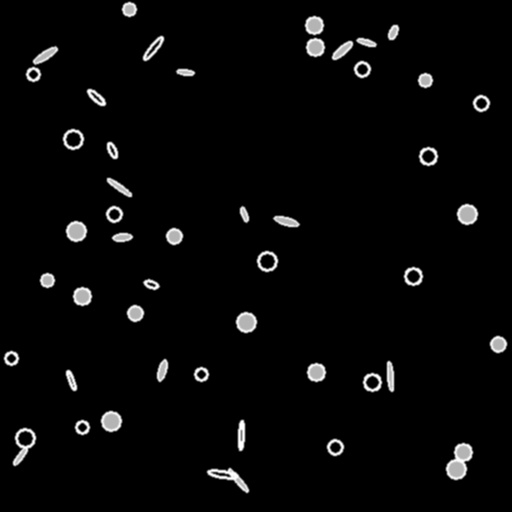pseudomonas: (141, 35, 165, 61), (227, 467, 249, 493), (330, 39, 354, 61), (32, 45, 58, 65), (106, 177, 132, 197), (273, 214, 299, 228), (86, 88, 106, 106), (207, 468, 237, 480), (12, 446, 28, 466), (156, 359, 168, 381), (105, 141, 119, 159), (65, 370, 77, 390), (386, 362, 394, 390), (356, 37, 376, 47), (143, 278, 159, 290), (387, 24, 399, 40), (238, 421, 244, 449), (239, 206, 249, 222), (112, 233, 132, 241), (177, 68, 193, 76)
synechocystis: (64, 130, 82, 148), (258, 252, 276, 270), (447, 460, 465, 478), (67, 222, 85, 240), (102, 412, 120, 430), (237, 313, 255, 331), (16, 429, 34, 447), (458, 205, 476, 223), (364, 374, 380, 390), (74, 288, 90, 304), (405, 268, 421, 284), (308, 364, 324, 380), (307, 39, 323, 55), (420, 148, 436, 164), (306, 17, 322, 33), (455, 444, 471, 460), (491, 337, 505, 351), (328, 440, 342, 454), (355, 62, 369, 76), (167, 229, 181, 243), (107, 207, 121, 221), (128, 306, 142, 320), (474, 96, 488, 110), (5, 352, 17, 364), (419, 74, 431, 86), (27, 68, 39, 80), (76, 421, 88, 433), (41, 274, 53, 286), (195, 368, 207, 380), (123, 3, 135, 15)
